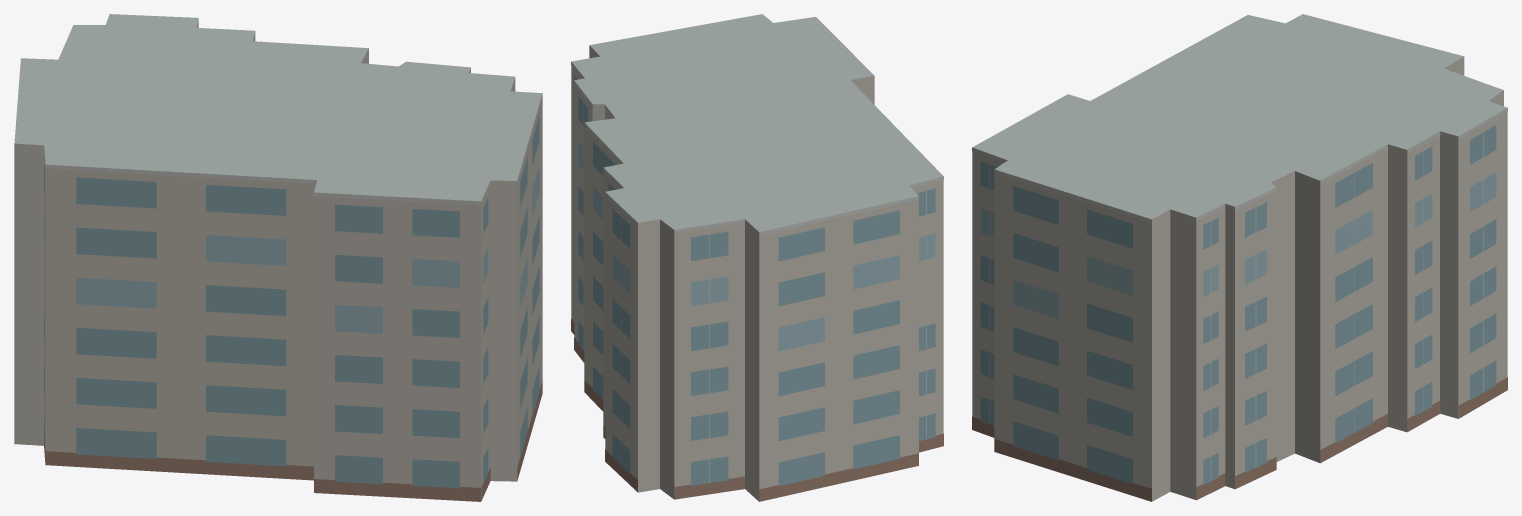
Rendered from survey-upis-32917013.glb.
3 views of the same model, side by side, from view 1: azimuth 30°, elevation 25°; view 2: azimuth 150°, elevation 25°; view 3: azimuth 270°, elevation 25° (orthographic). The views are drawn at different scales.
Parts seen in each view (by area): view 1: survey-upis-32917013.tmp; view 2: survey-upis-32917013.tmp; view 3: survey-upis-32917013.tmp.
Boxes of the visible parts, x1,y1,x2,y2 form: survey-upis-32917013.tmp: (14,14,542,501); survey-upis-32917013.tmp: (571,14,943,501); survey-upis-32917013.tmp: (972,14,1507,501).
Bounding box in the file's own units: 28.54 × 18.3 × 31.45.
